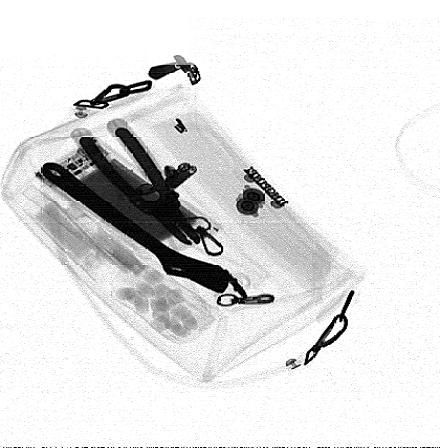Pliers: (78, 128, 203, 244)
Powerbank: (30, 134, 225, 265)
Wrench: (40, 161, 228, 294)
